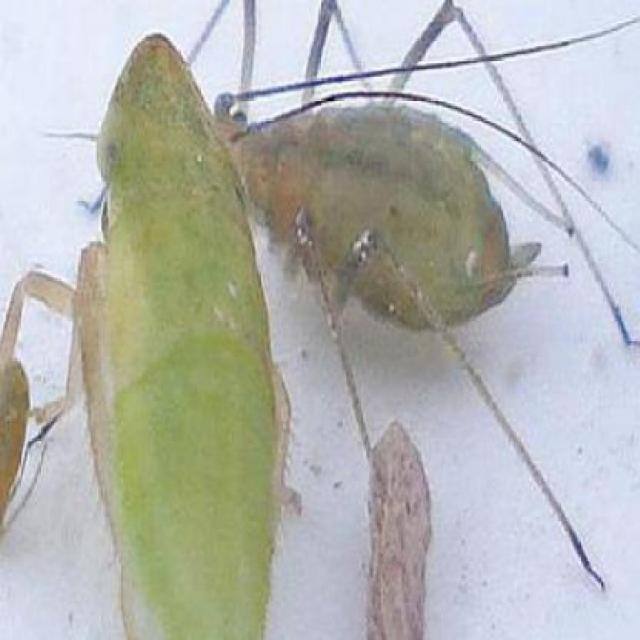green-leafhopper: (0, 0, 637, 637)
